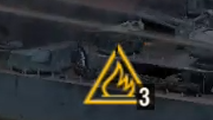3fire: (79, 68, 157, 111)
